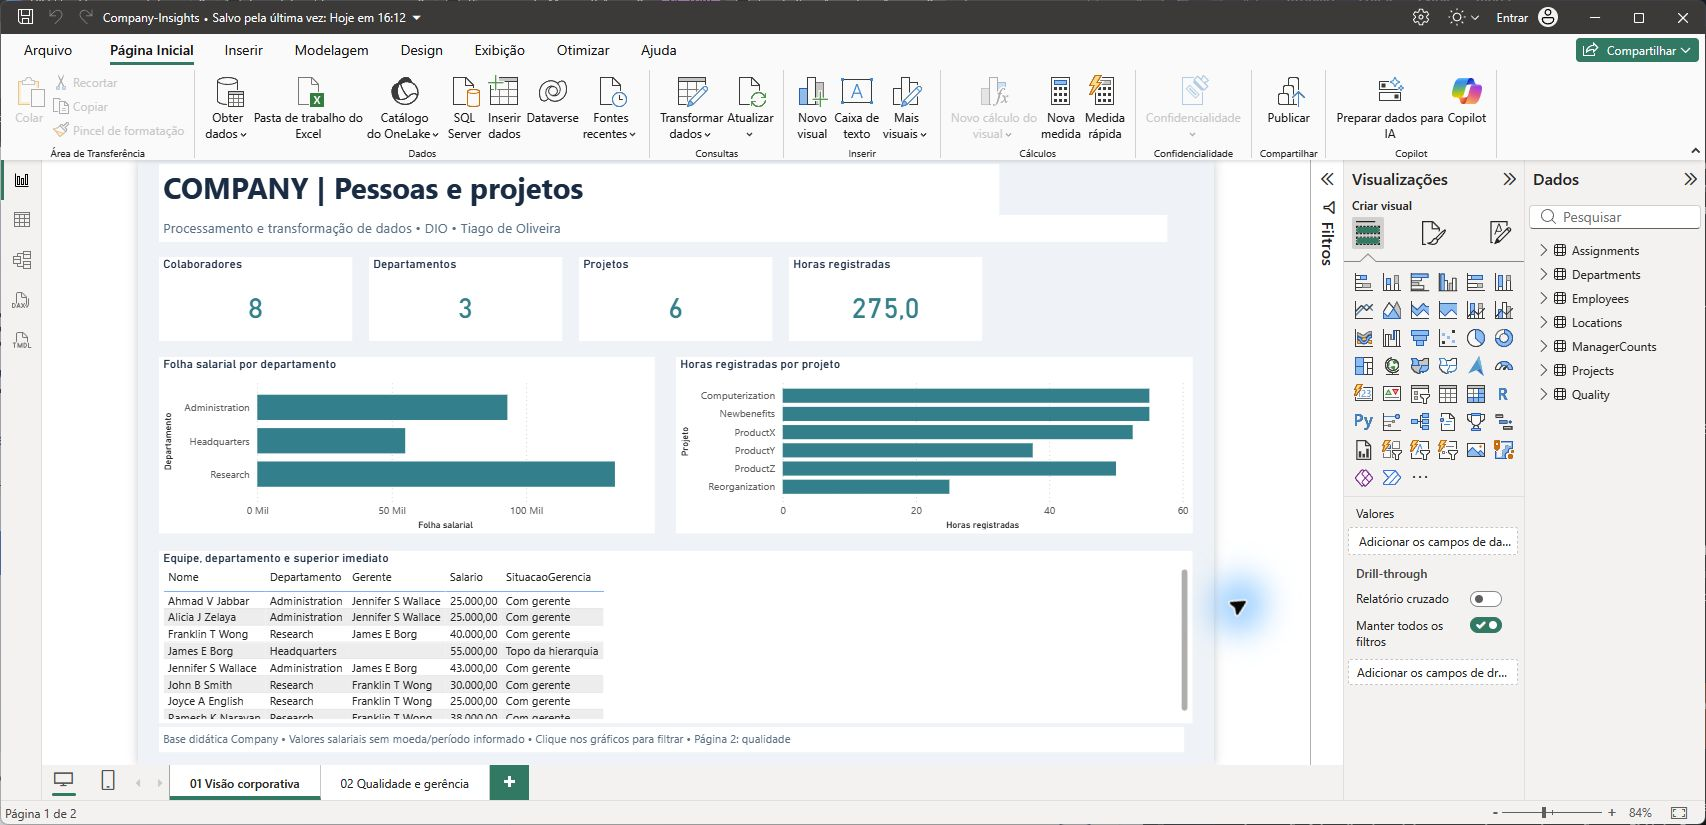

Layout of this report page (visuals, bound fields, positions):
{"tool":"powerbi","page":{"name":"01 Visão corporativa","canvas":[1280,720],"ordinal":0},"visuals":[{"type":"textbox","box":[25,5,1000,65],"z":1000},{"type":"textbox","box":[25,65,1200,32],"z":2000},{"type":"card","title":"Colaboradores","fields":{"Values":["Employees.Colaboradores"]},"box":[25,115,230,100],"z":3000},{"type":"card","title":"Departamentos","fields":{"Values":["Departments.Departamentos"]},"box":[275,115,230,100],"z":4000},{"type":"card","title":"Projetos","fields":{"Values":["Projects.Projetos"]},"box":[525,115,230,100],"z":5000},{"type":"card","title":"Horas registradas","fields":{"Values":["Assignments.Horas registradas"]},"box":[775,115,230,100],"z":6000},{"type":"clusteredBarChart","title":"Folha salarial por departamento","fields":{"Category":["Employees.Departamento"],"Y":["Employees.Folha salarial"]},"box":[25,235,590,210],"z":7000},{"type":"clusteredBarChart","title":"Horas registradas por projeto","fields":{"Category":["Assignments.Projeto"],"Y":["Assignments.Horas registradas"]},"box":[640,235,615,210],"z":8000},{"type":"tableEx","title":"Equipe, departamento e superior imediato","fields":{"Values":["Employees.Nome","Employees.Departamento","Employees.Gerente","Employees.Salario","Employees.SituacaoGerencia"]},"box":[25,465,1230,205],"z":9000},{"type":"textbox","box":[25,675,1220,30],"z":10000}]}

Visuals, with their boxes on the page's 1280x720 design canvas (x1, y1, x2, y2). These are canvas units, not pixel positions in the 1706x825 screenshot, which may show the page scaled, cropped or inside an application window:
textbox: Rect(25, 5, 1025, 70)
textbox: Rect(25, 65, 1225, 97)
"Colaboradores" card: Rect(25, 115, 255, 215)
"Departamentos" card: Rect(275, 115, 505, 215)
"Projetos" card: Rect(525, 115, 755, 215)
"Horas registradas" card: Rect(775, 115, 1005, 215)
"Folha salarial por departamento" clusteredBarChart: Rect(25, 235, 615, 445)
"Horas registradas por projeto" clusteredBarChart: Rect(640, 235, 1255, 445)
"Equipe, departamento e superior imediato" tableEx: Rect(25, 465, 1255, 670)
textbox: Rect(25, 675, 1245, 705)
